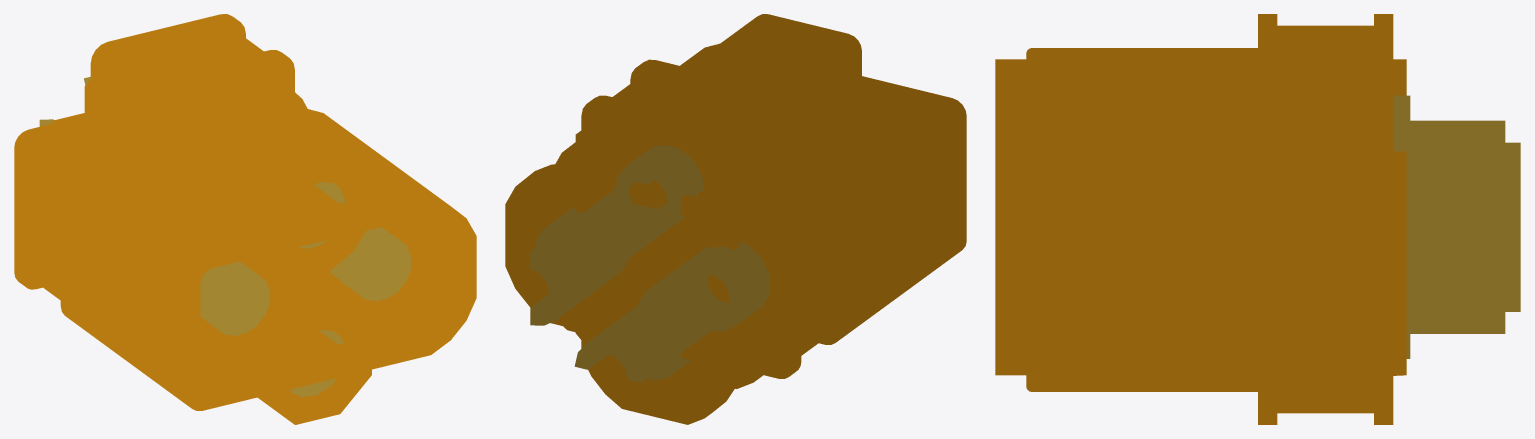
3 renders of one model, left to right at view 1: azimuth 30°, elevation 25°; view 2: azimuth 150°, elevation 25°; view 3: azimuth 270°, elevation 25°, orthographic. The views are drawn at different scales.
Parts seen in each view (by area): view 1: XT30U-M-boitier, XT30U-F-boitier, XT30U-M-contacts, XT30U-F-contacts; view 2: XT30U-M-boitier, XT30U-F-boitier, XT30U-M-contacts, XT30U-F-contacts; view 3: XT30U-M-boitier, XT30U-F-boitier, XT30U-M-contacts, XT30U-F-contacts.
Part boxes in pixels (bbox=[...]): XT30U-M-boitier: bbox=[14, 92, 476, 410]; XT30U-F-boitier: bbox=[84, 14, 371, 424]; XT30U-M-contacts: bbox=[39, 119, 411, 335]; XT30U-F-contacts: bbox=[84, 77, 344, 396]; XT30U-M-boitier: bbox=[505, 43, 966, 378]; XT30U-F-boitier: bbox=[575, 14, 861, 424]; XT30U-M-contacts: bbox=[530, 206, 769, 359]; XT30U-F-contacts: bbox=[574, 145, 703, 382]; XT30U-M-boitier: bbox=[995, 59, 1406, 376]; XT30U-F-boitier: bbox=[1026, 14, 1393, 424]; XT30U-M-contacts: bbox=[1406, 142, 1520, 316]; XT30U-F-contacts: bbox=[1393, 95, 1505, 358].
Size of the model in its own units: 0.0102 by 0.0102 by 0.0136.
